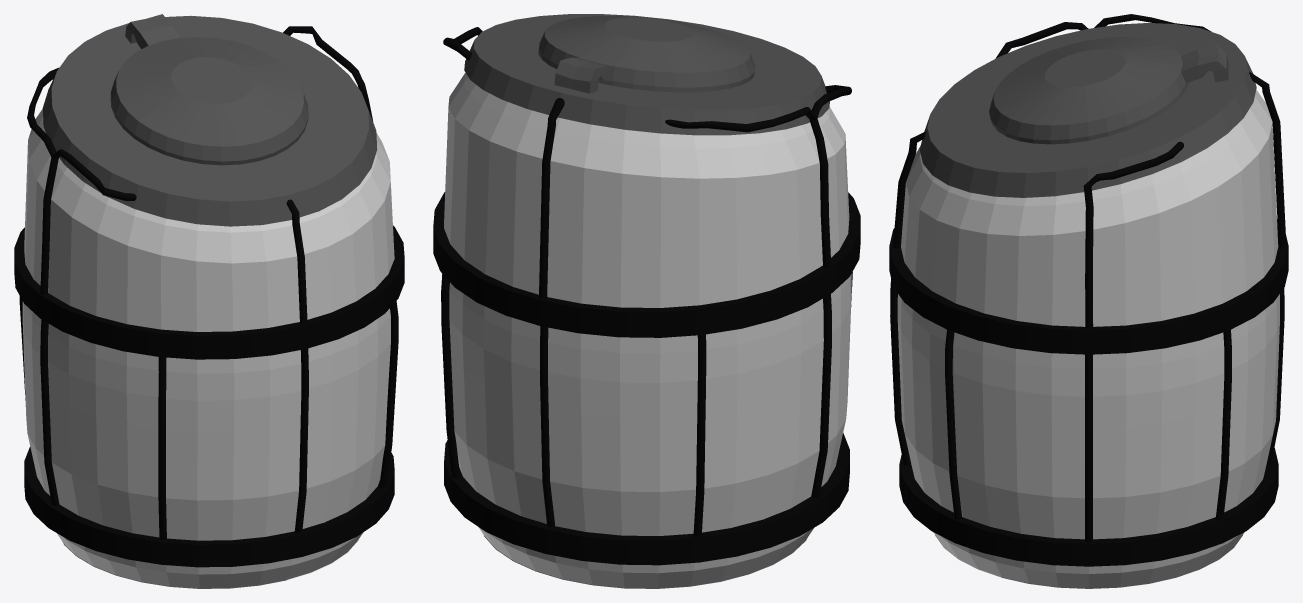
File: M-003 Final Barrel 1.fbx
3 views of the same model, side by side, from view 1: azimuth 30°, elevation 25°; view 2: azimuth 150°, elevation 25°; view 3: azimuth 270°, elevation 25° (orthographic). The views are drawn at different scales.
Visible parts, largest first — view 1: Cylinder.003; view 2: Cylinder.003; view 3: Cylinder.003.
Boxes of the visible parts, x1=… form: Cylinder.003: x1=14, y1=14, x2=404, y2=588; Cylinder.003: x1=433, y1=14, x2=860, y2=588; Cylinder.003: x1=889, y1=14, x2=1288, y2=588.
Size of the model in its own units: 88.43 by 115 by 88.43.
